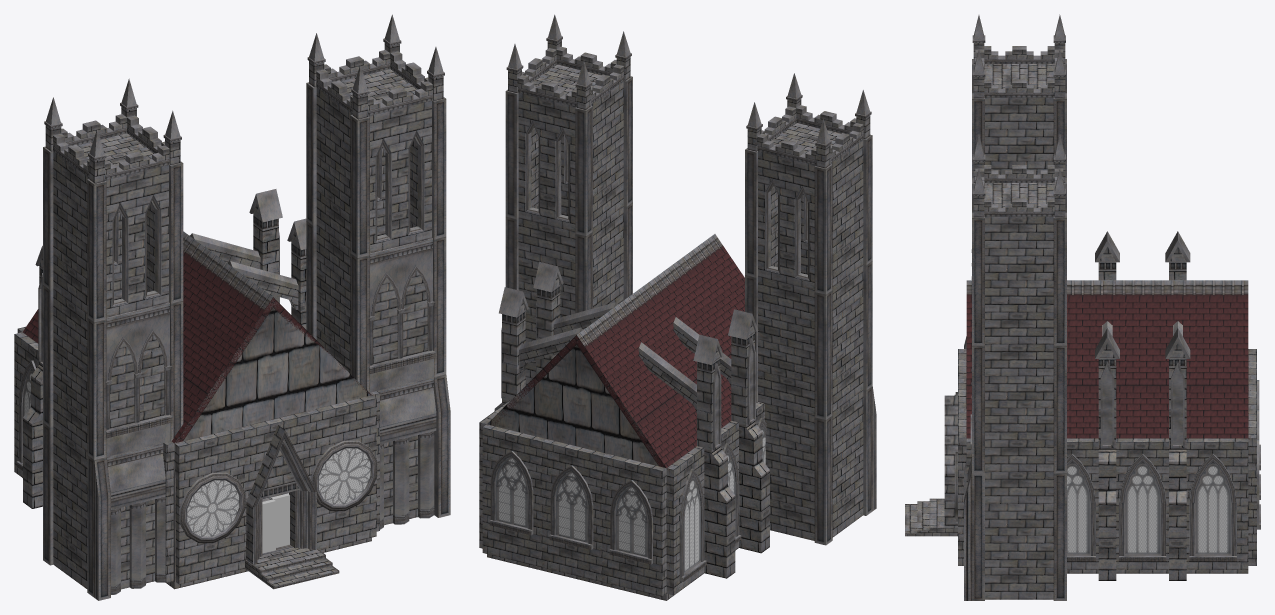
File: GothicChurch.fbx
3 views of the same model, side by side, from view 1: azimuth 30°, elevation 25°; view 2: azimuth 150°, elevation 25°; view 3: azimuth 270°, elevation 25° (orthographic). The views are drawn at different scales.
Visible parts, largest first — view 1: GothicChurch; view 2: GothicChurch; view 3: GothicChurch.
Boxes of the visible parts, left/top/right/bottom form: GothicChurch: left=14, top=14, right=450, bottom=600; GothicChurch: left=479, top=14, right=876, bottom=600; GothicChurch: left=905, top=14, right=1260, bottom=600.
Bounding box in the file's own units: 4280 × 5495 × 4044.
